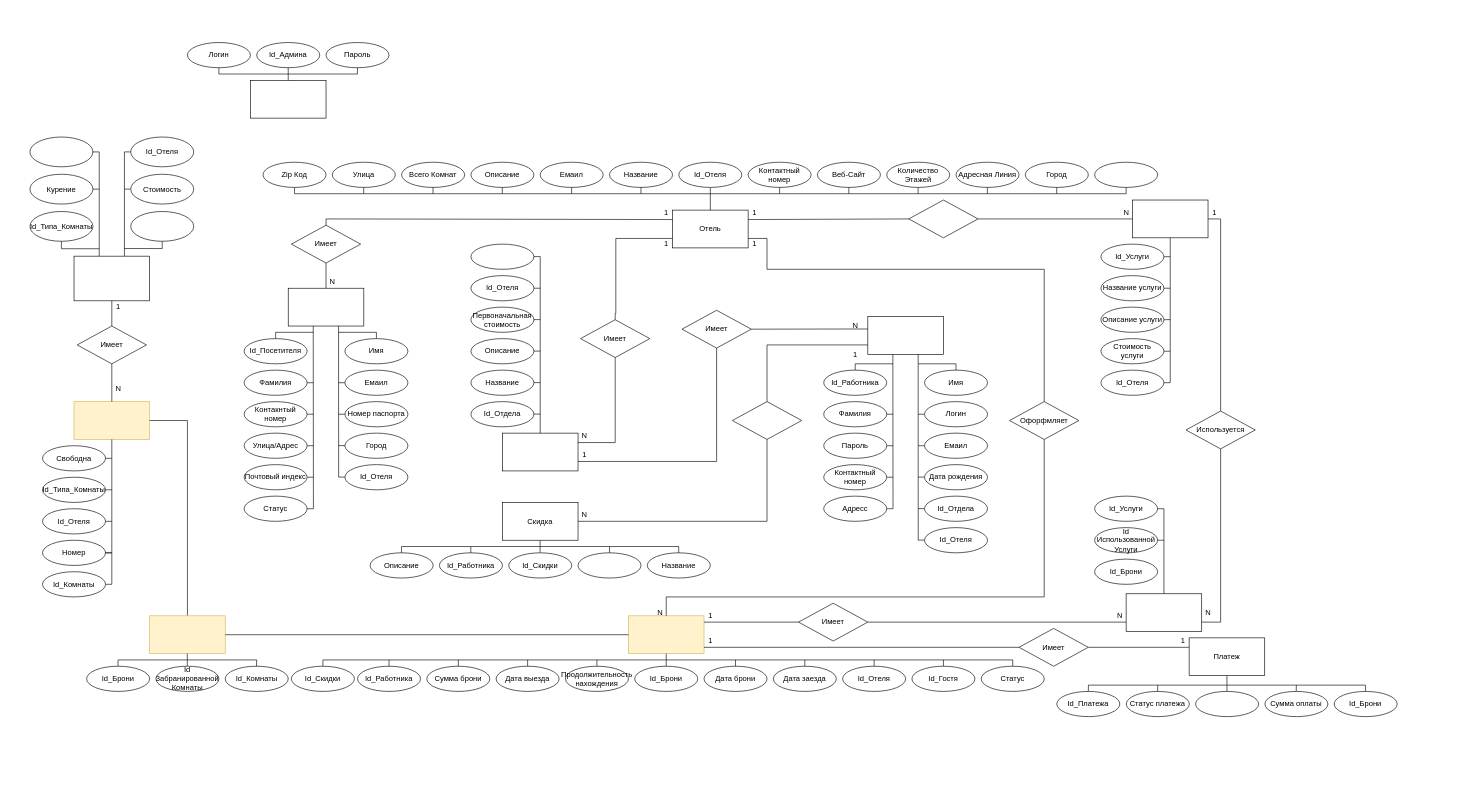
The diagram is 1477 pixels wide and 809 high, and some of its shapes have lost their labels. Each missing label, with the centre of its shape:
Администратор: point 288,99
Бронь: point 666,634
Забронированная комната: point 187,634
Использованная услуга: point 1163,612
Комната: point 111,420
Навание: point 162,226
Назначение: point 502,256
Отдел: point 540,451
Оформляет: point 767,420
Питомцы: point 61,151
Посетитель: point 326,307
Предоставляет: point 943,218
Работник: point 905,335
Ставка: point 609,565
Страна: point 1126,174
Тип платежа: point 1227,704
Тип_Комнаты: point 111,278
Услуга: point 1170,218
